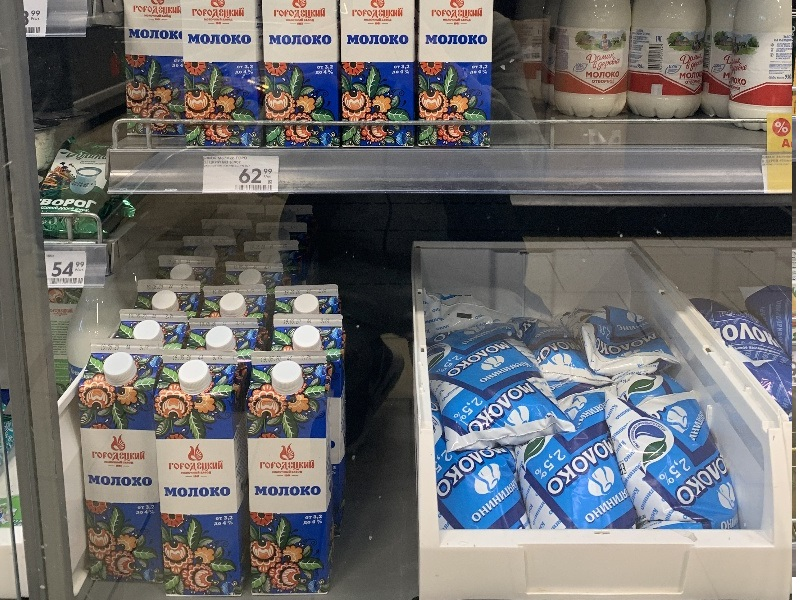milk: (241, 348, 345, 599), (75, 341, 178, 592), (153, 350, 249, 597)
